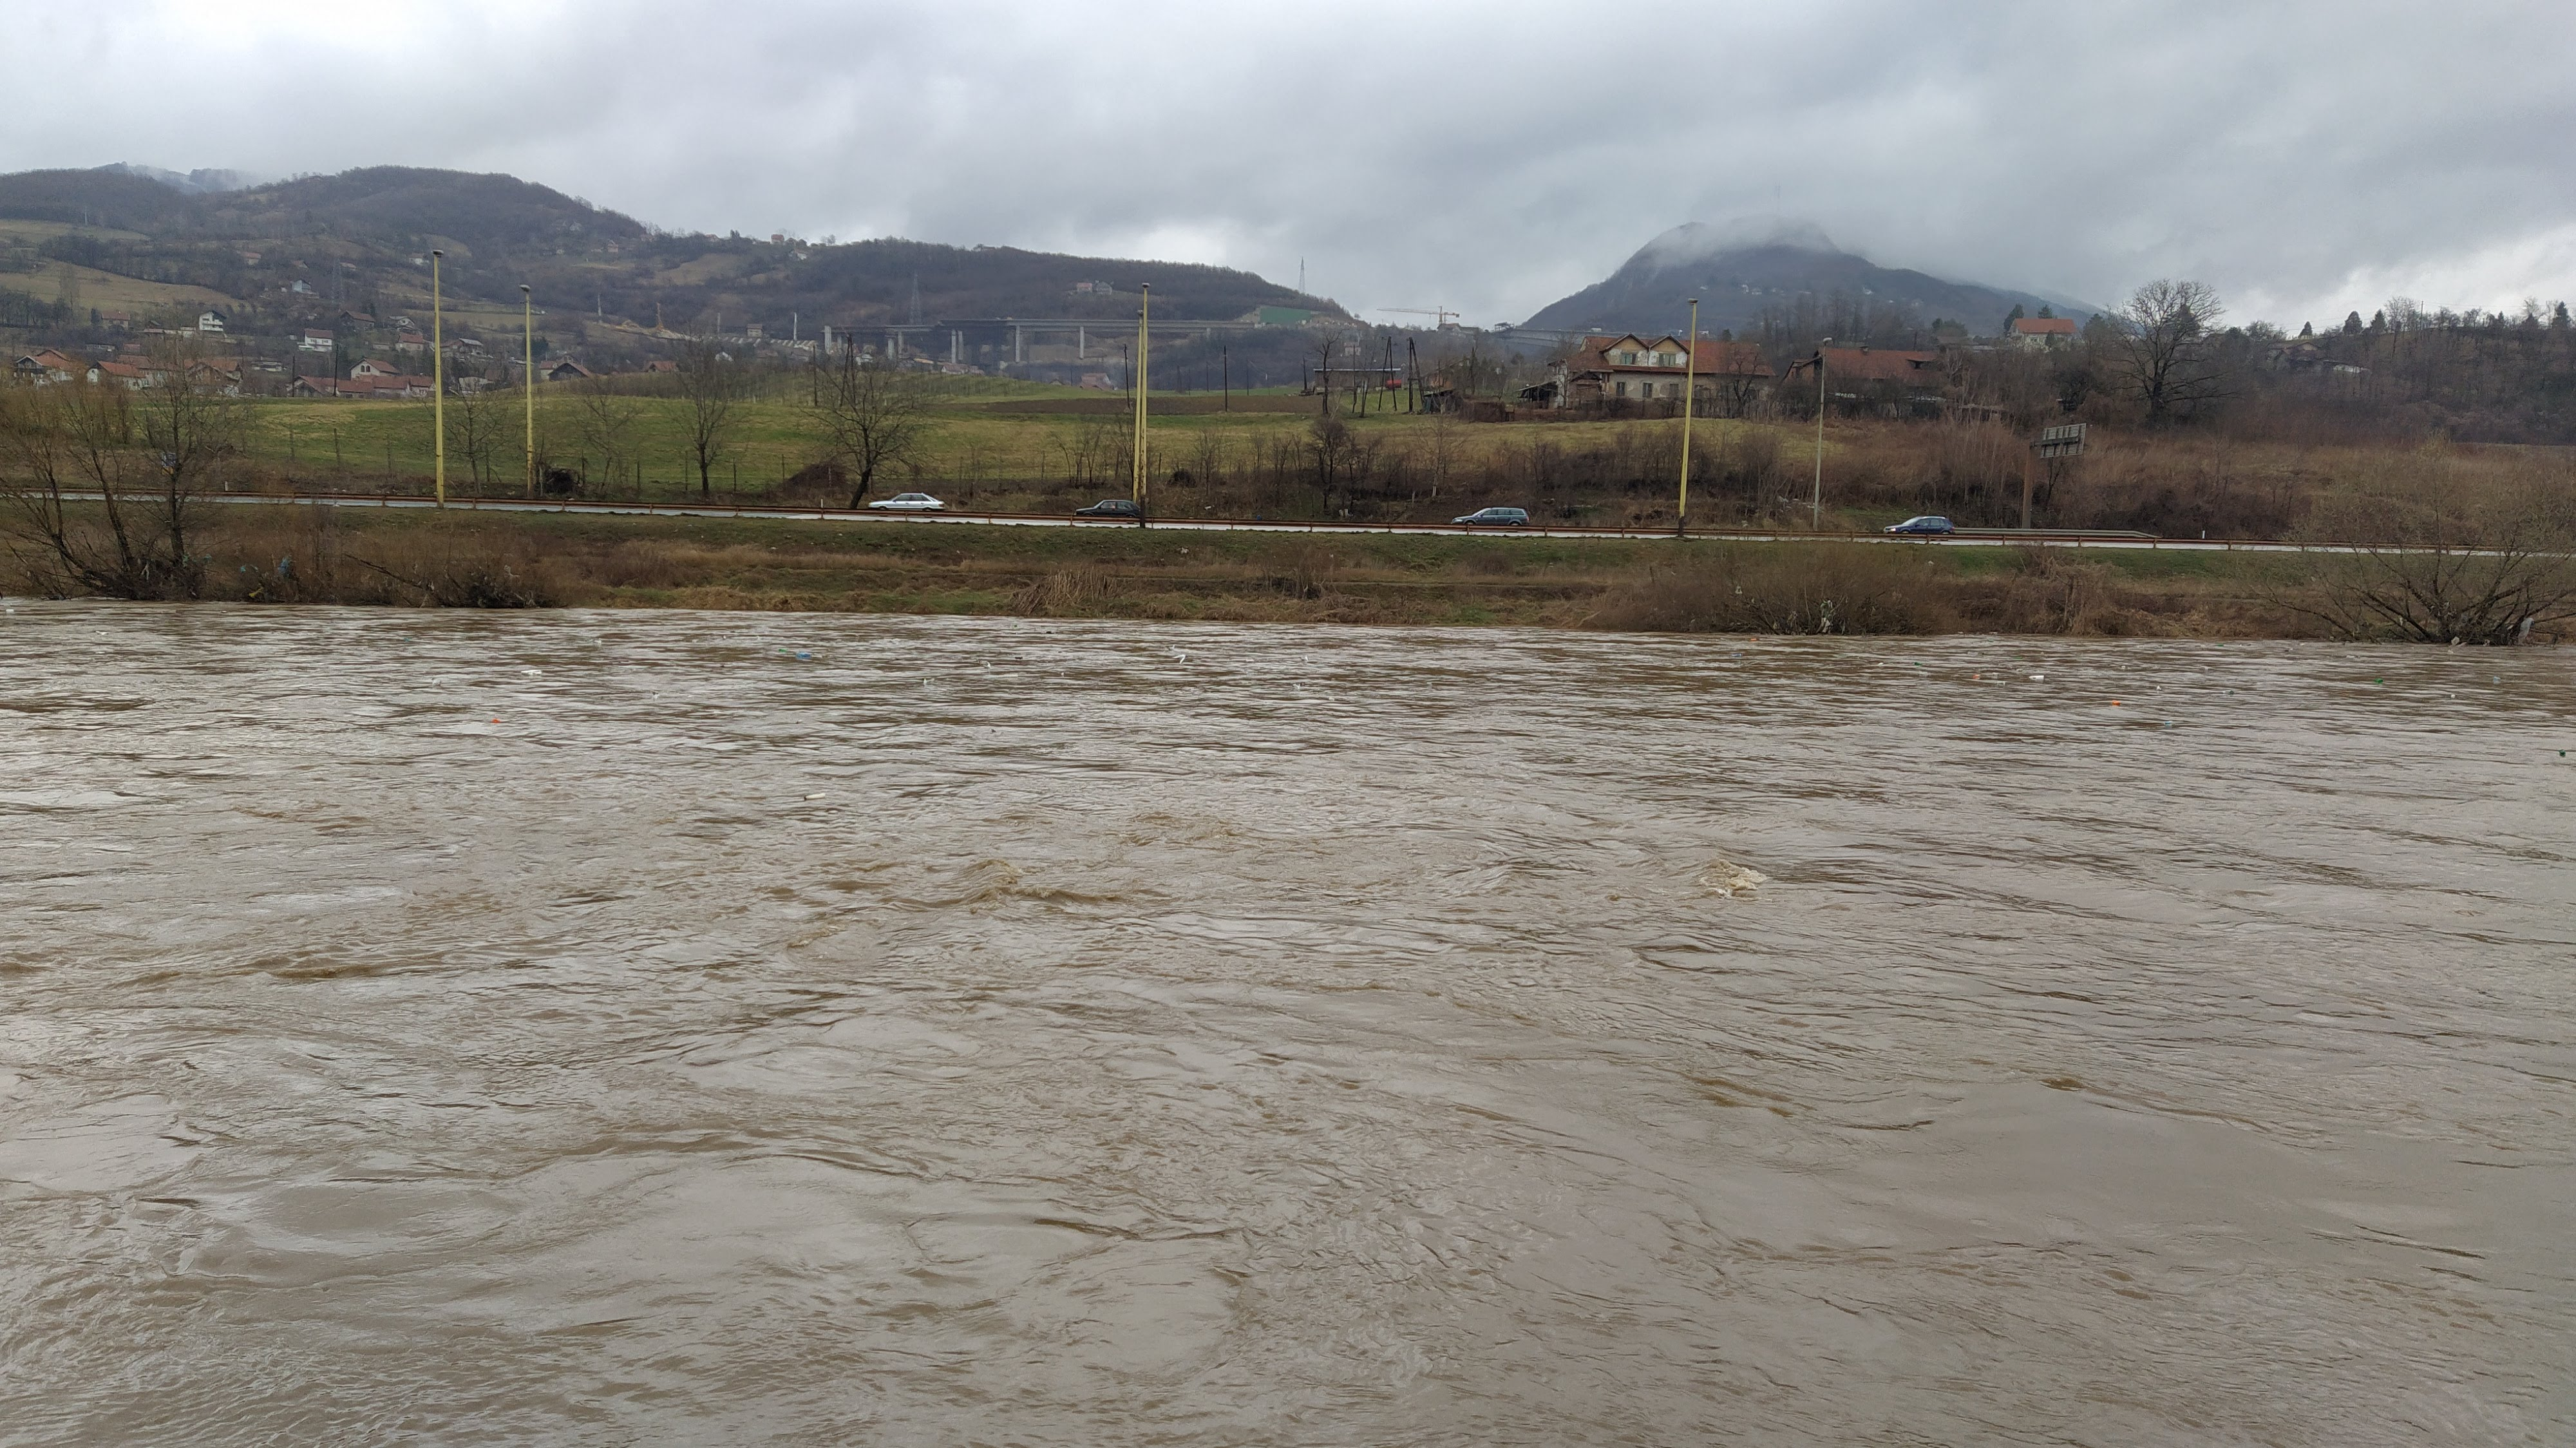Plastic Bottle: (805, 791, 824, 800), (520, 669, 540, 674), (2029, 674, 2045, 680), (798, 653, 810, 659), (432, 680, 439, 685), (1732, 653, 1743, 657), (2493, 676, 2500, 682), (2013, 655, 2020, 659), (2374, 678, 2381, 682), (494, 719, 499, 722), (596, 639, 602, 643), (1752, 637, 1757, 641), (1916, 662, 1921, 666), (2166, 720, 2171, 724), (2217, 643, 2222, 646), (1997, 682, 2005, 683), (2560, 751, 2564, 754), (778, 650, 784, 651), (2112, 701, 2118, 703), (403, 637, 407, 639), (2231, 692, 2233, 694)
